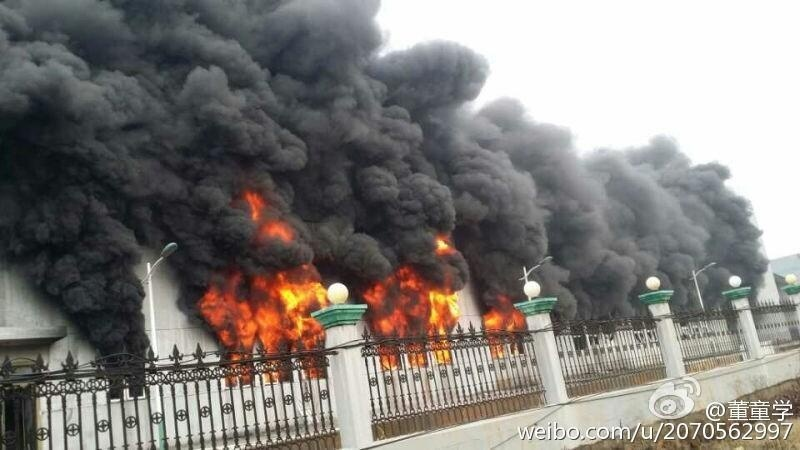fire: (197, 202, 327, 380), (366, 241, 461, 367), (482, 291, 526, 350)
